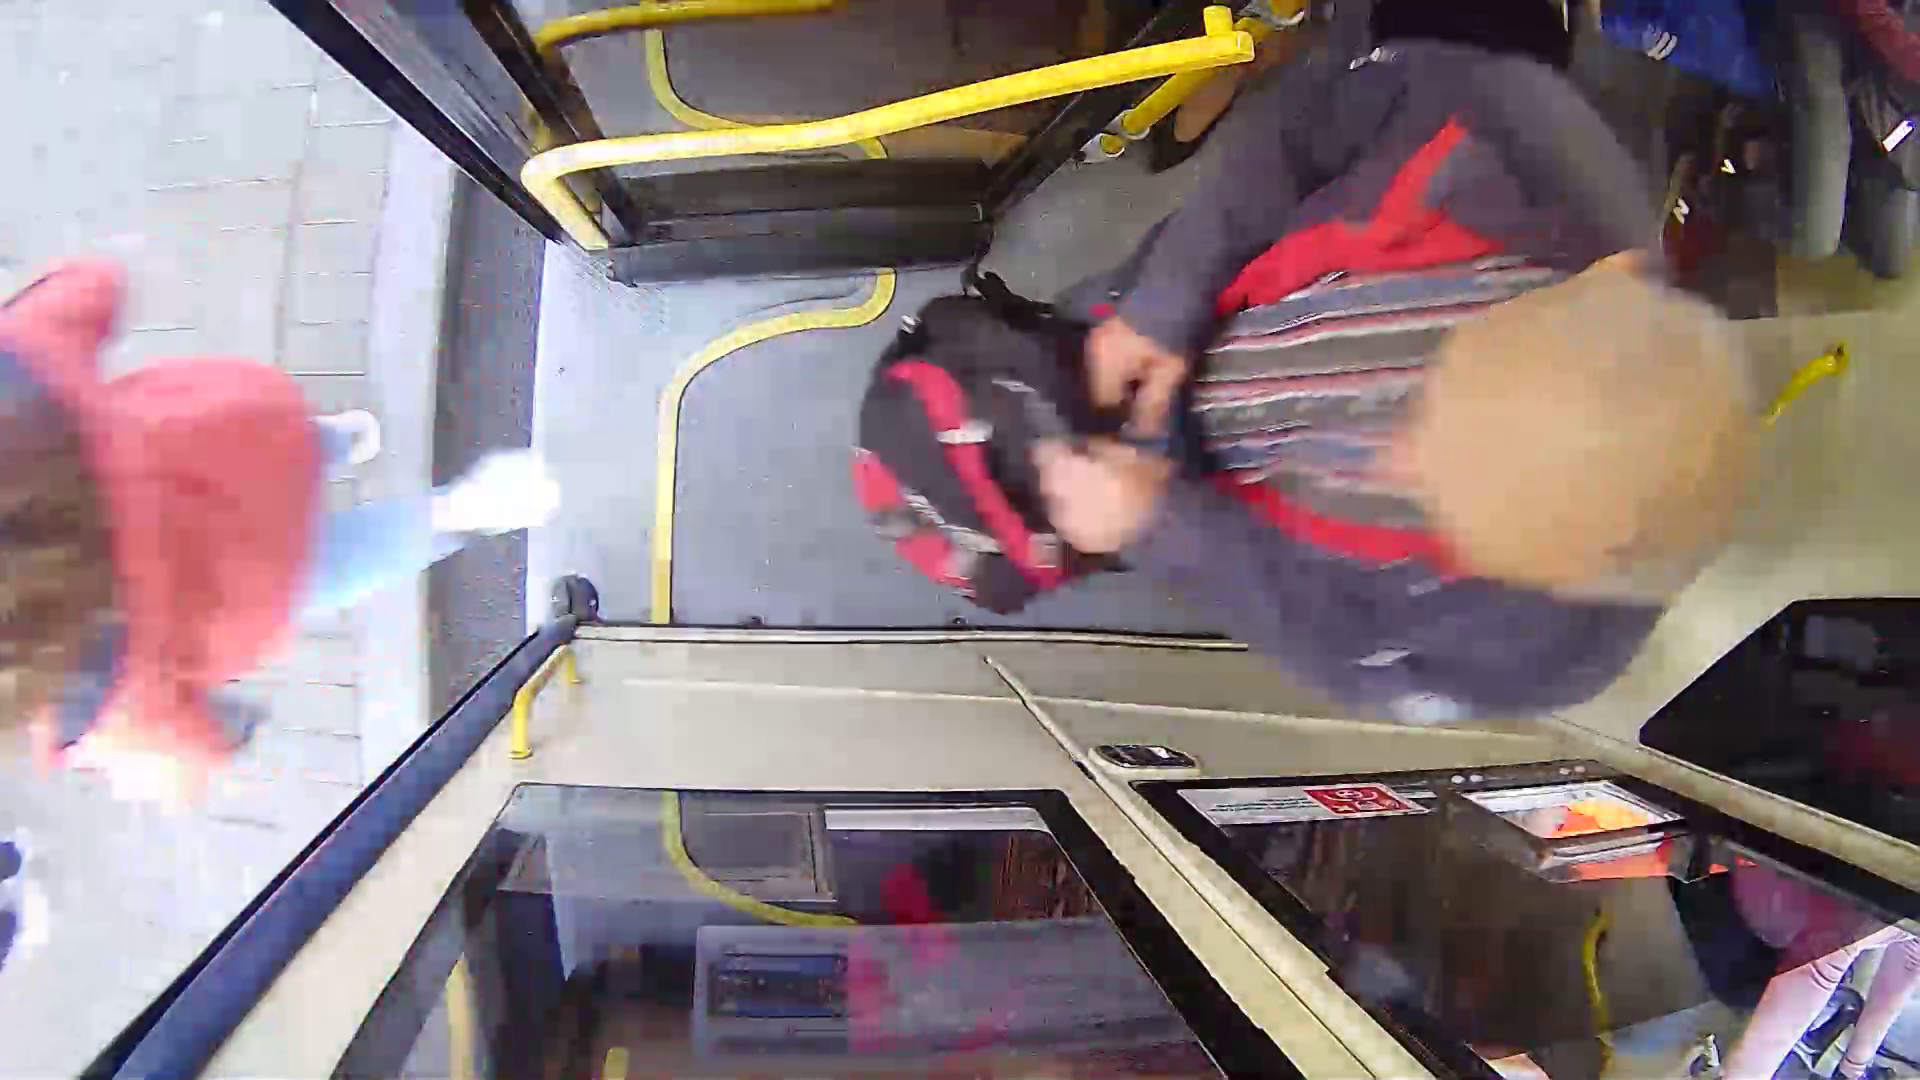person: (910, 28, 1786, 719), (14, 260, 528, 749)
